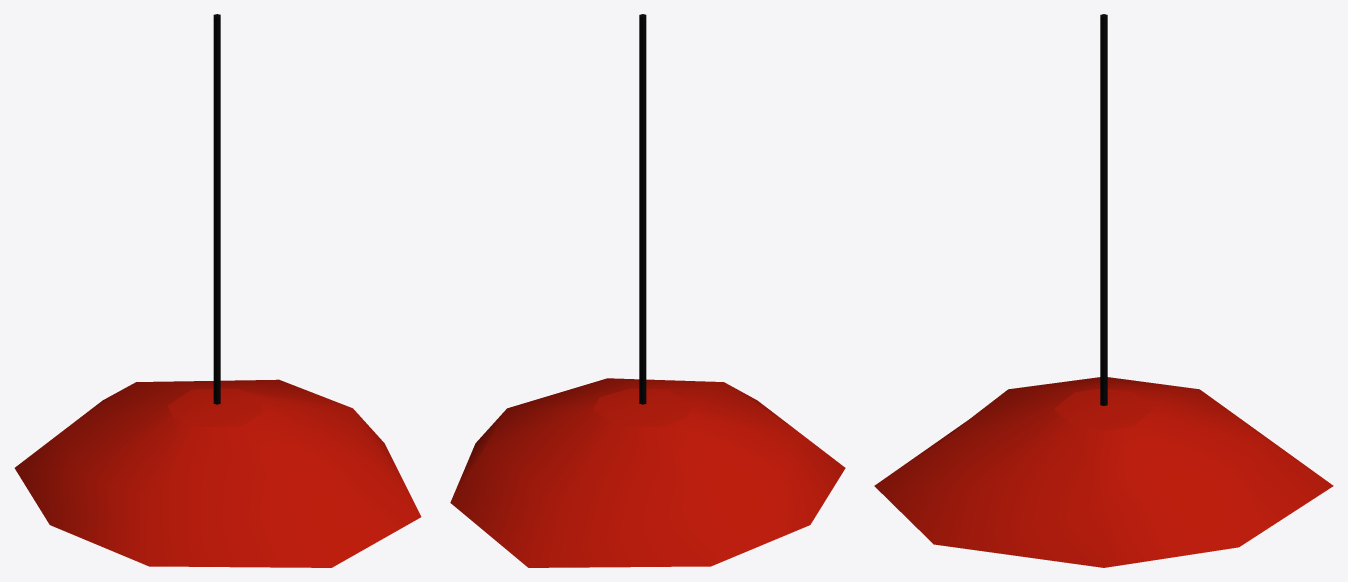
Rendered from light_hat.fbx.
The picture shows the model from 3 angles, left to right: view 1: azimuth 30°, elevation 25°; view 2: azimuth 150°, elevation 25°; view 3: azimuth 270°, elevation 25°; orthographic projection.
Parts seen in each view (by area): view 1: polySurface2; view 2: polySurface2; view 3: polySurface2.
Part boxes in pixels (box(x1,y1,x2,y2)): polySurface2: box(14, 14, 421, 567); polySurface2: box(450, 14, 845, 567); polySurface2: box(874, 14, 1333, 567).
Size of the model in its own units: 6.17 by 8.25 by 7.31.
